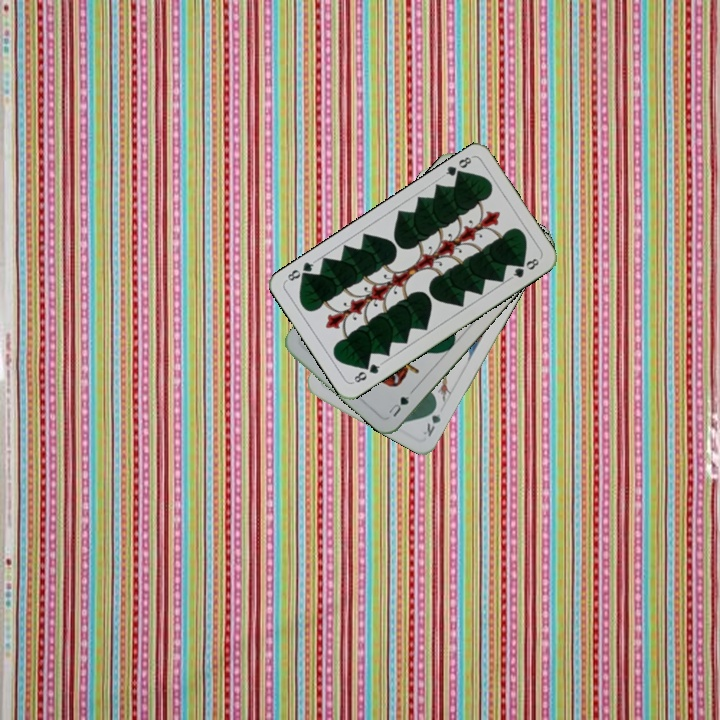G8: (438, 152, 475, 182), (349, 358, 385, 386)
GK: (419, 400, 443, 439)
GU: (384, 392, 412, 420)
